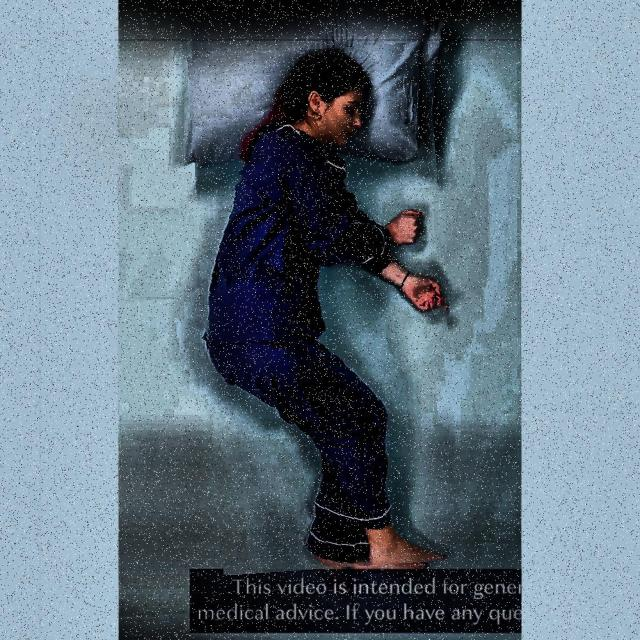Not_Supine: (207, 47, 446, 567)
